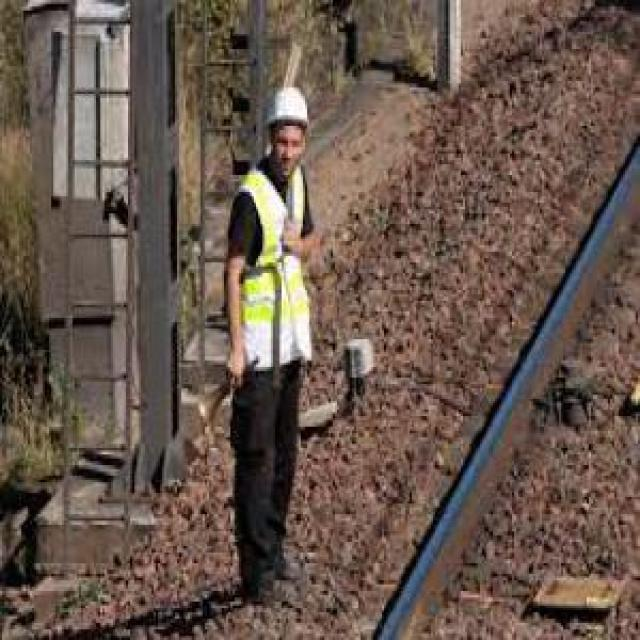danger: (226, 66, 309, 597)
rail: (348, 112, 640, 638)
